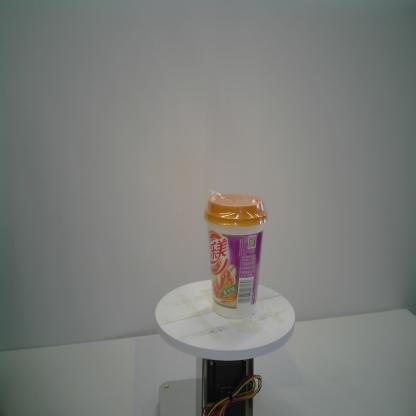Instant Drink: (202, 189, 270, 321)
